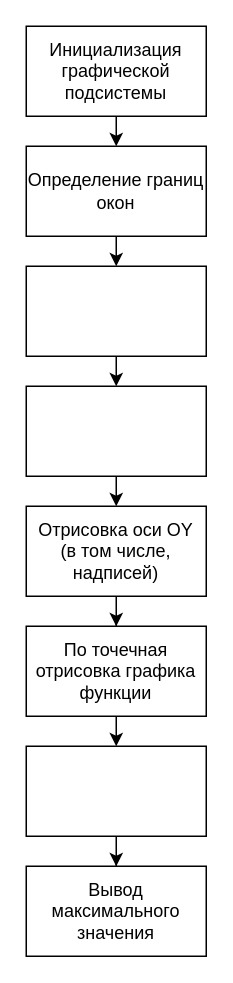
Some shapes in this 233 by 983 pixel diagram are drawn without their labels. Here are the shapes that lost their labels. From the top down, the centre of each, then its label:
At point 115,310: "Отрисовка границ некоторых окон".
At point 115,430: "Отрисовка оси OX (в том числе, надписей)".
At point 115,790: "Определение максимального значения".
